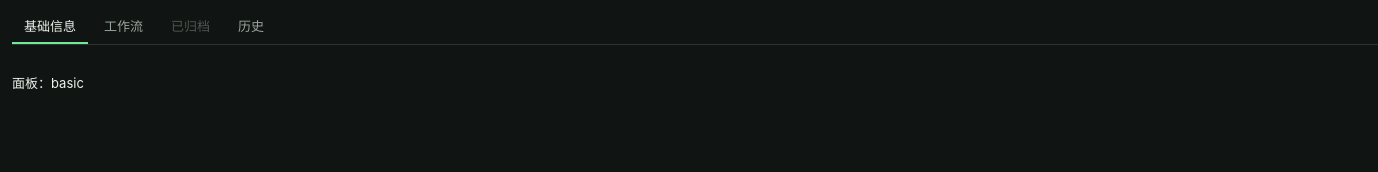
Test: Tabs › selects a tab on click and swaps the visible panel
Click the tab "工作流" at (124, 28), box [92,12,155,44]
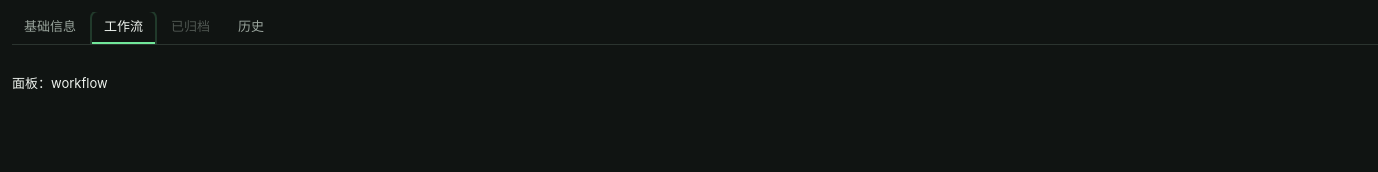
Now the panel reads "面板：workflow", box [12,75,108,91]
